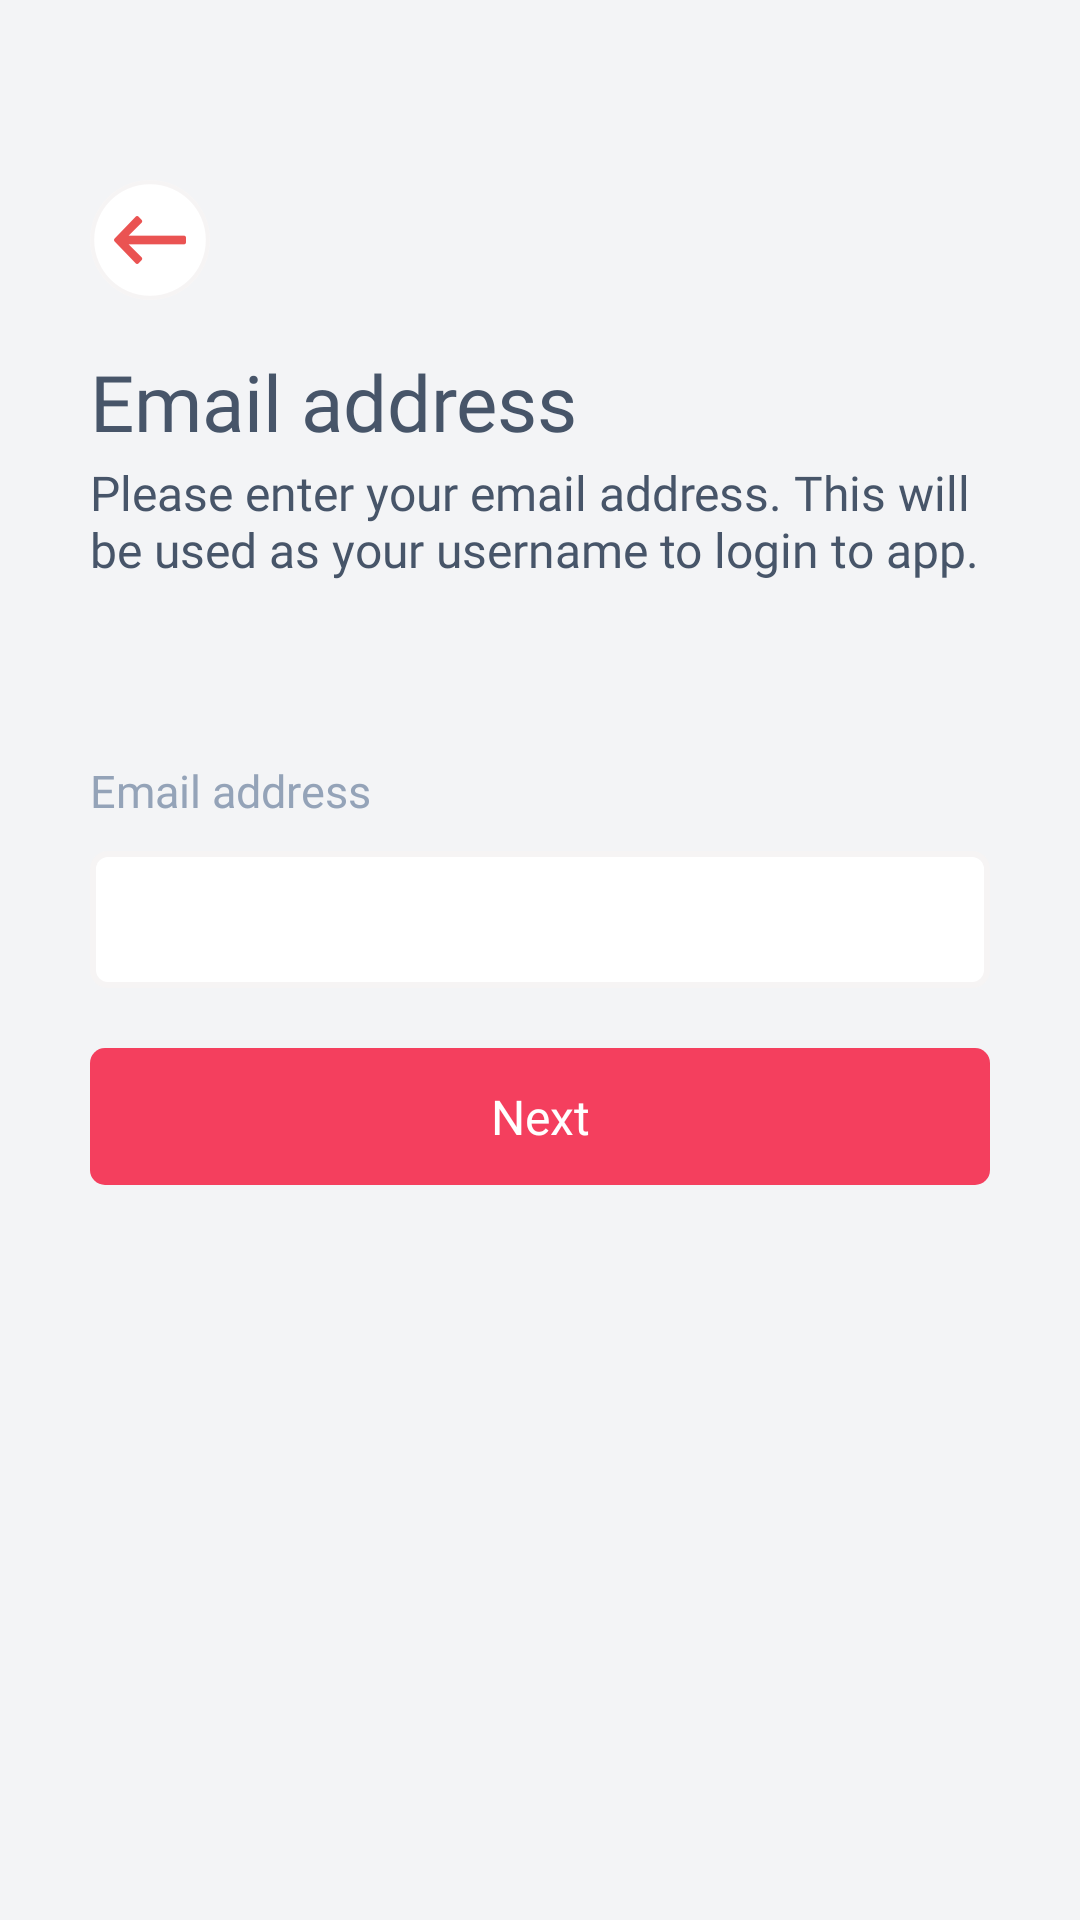

Icons on this 1080 x 1920 Android screen, each with its box as (x1, y1, x2, y2):
back: (94, 184, 206, 296)
